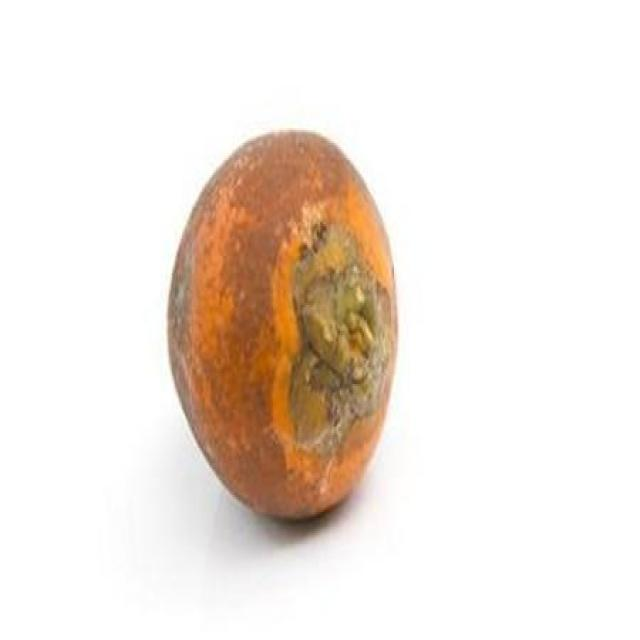good: (166, 132, 400, 523)
